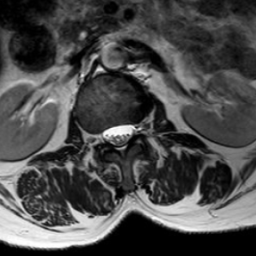CCS_normal: (113, 114, 124, 163)
LFS_normal: (135, 112, 145, 144)
LLS_normal: (124, 113, 135, 149)
RFS_normal: (92, 117, 103, 154)
RLS_normal: (103, 114, 113, 154)
